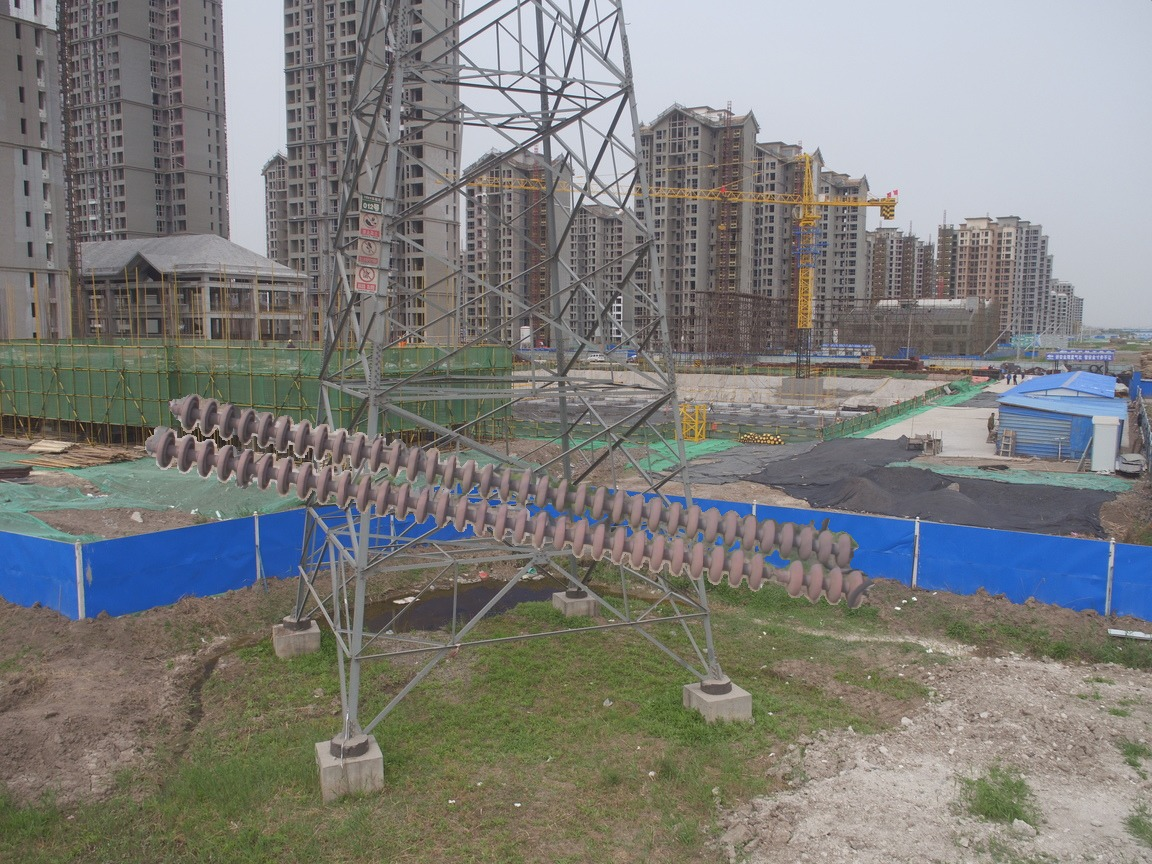defect: (745, 550, 807, 601)
